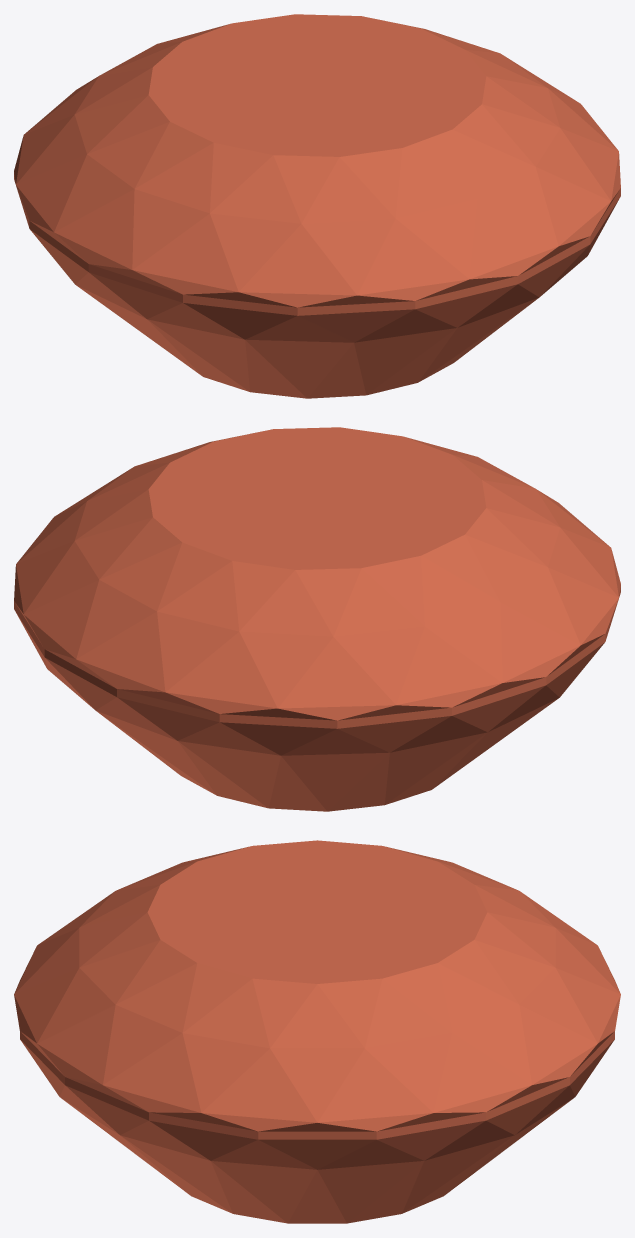
The model's file is heera.glb.
The picture shows the model from 3 angles, top to bottom: view 1: azimuth 30°, elevation 25°; view 2: azimuth 150°, elevation 25°; view 3: azimuth 270°, elevation 25°; orthographic projection.
Parts seen in each view (by area): view 1: stone; view 2: stone; view 3: stone.
Boxes of the visible parts, x1,y1,x2,y2 form: stone: [14, 14, 620, 398]; stone: [14, 427, 620, 811]; stone: [14, 840, 620, 1223].
Bounding box in the file's own units: 0.45 × 0.2122 × 0.45.
